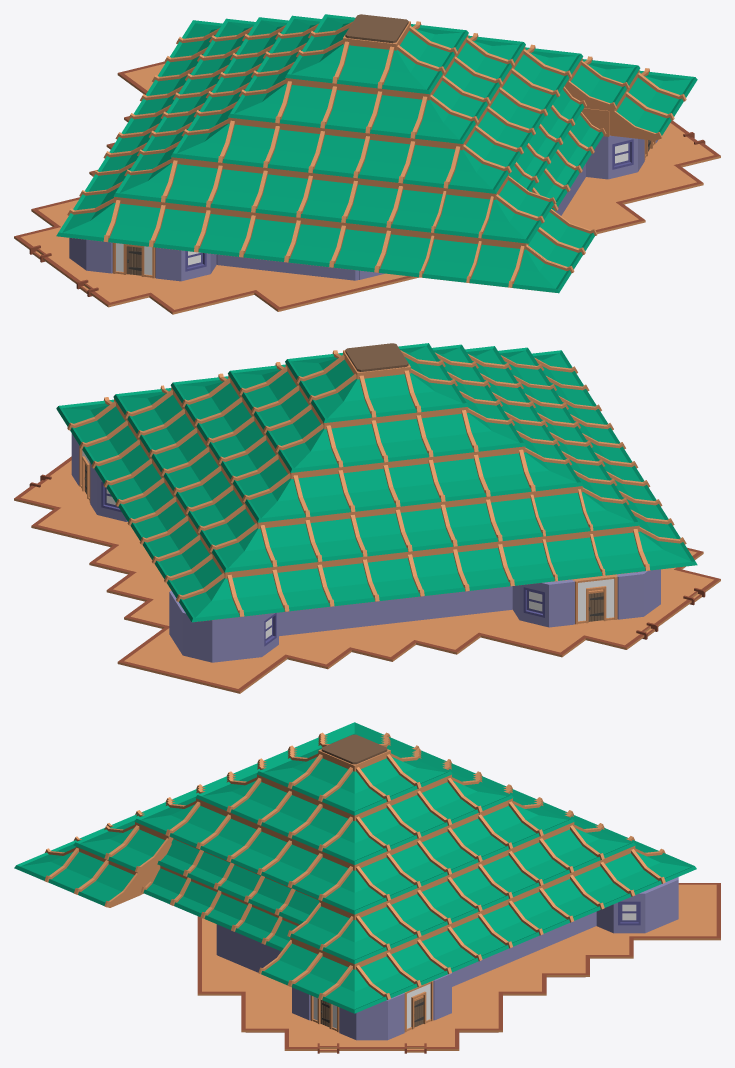
File: Casa1.dae
3 renders of one model, top to bottom at view 1: azimuth 30°, elevation 25°; view 2: azimuth 150°, elevation 25°; view 3: azimuth 270°, elevation 25°, orthographic. The views are drawn at different scales.
Visible parts, largest first — view 1: roof_eastAsianSide (×65), roof_eastAsianSideCorner (×20), porch_floorCenter (×8), roof_eastAsianHalf (×8), wall_cornerEdgeWindow (×2), porch_floorCornerInner (×4), porch_floor (×5), porch_floorSteps (×3), wall (×3), roof_flat, wall_cornerEdge, wall_eastAsianDoorway; view 2: roof_eastAsianSide (×73), roof_eastAsianSideCorner (×17), porch_floorCornerInner (×9), porch_floorCenter (×9), wall (×5), wall_cornerEdgeWindow (×3), wall_cornerEdge (×2), porch_floor (×4), wall_eastAsianDoorway, roof_flat, porch_floorSteps (×2); view 3: roof_eastAsianSide (×40), roof_eastAsianSideCorner (×15), roof_eastAsianHalf (×10), porch_floorCenter (×11), porch_floorCornerInner (×7), wall_cornerEdgeWindow (×2), wall_cornerEdge (×2), wall (×2), wall_eastAsianDoorway (×2), roof_flat, porch_floorSteps (×2), porch_floor.
Part boxes in pixels (x1=…): roof_eastAsianSide (×65): x1=71, y1=22, x2=685, y2=287; roof_eastAsianSideCorner (×20): x1=56, y1=14, x2=697, y2=293; porch_floorCenter (×8): x1=93, y1=135, x2=688, y2=298; roof_eastAsianHalf (×8): x1=516, y1=86, x2=606, y2=209; wall_cornerEdgeWindow (×2): x1=155, y1=135, x2=644, y2=281; porch_floorCornerInner (×4): x1=117, y1=152, x2=700, y2=305; porch_floor (×5): x1=49, y1=179, x2=683, y2=309; porch_floorSteps (×3): x1=25, y1=130, x2=708, y2=298; wall (×3): x1=216, y1=254, x2=358, y2=280; roof_flat: x1=345, y1=14, x2=408, y2=43; wall_cornerEdge: x1=69, y1=238, x2=112, y2=273; wall_eastAsianDoorway: x1=112, y1=243, x2=155, y2=278; roof_eastAsianSide (×73): x1=68, y1=351, x2=682, y2=616; roof_eastAsianSideCorner (×17): x1=56, y1=347, x2=697, y2=622; porch_floorCornerInner (×9): x1=34, y1=495, x2=617, y2=667; porch_floorCenter (×9): x1=46, y1=477, x2=576, y2=677; wall (×5): x1=287, y1=586, x2=512, y2=635; wall_cornerEdgeWindow (×3): x1=90, y1=463, x2=574, y2=659; wall_cornerEdge (×2): x1=176, y1=569, x2=660, y2=662; porch_floor (×4): x1=51, y1=522, x2=552, y2=688; wall_eastAsianDoorway: x1=573, y1=574, x2=618, y2=624; roof_flat: x1=345, y1=343, x2=408, y2=371; porch_floorSteps (×2): x1=618, y1=582, x2=709, y2=641; roof_eastAsianSide (×40): x1=44, y1=751, x2=664, y2=998; roof_eastAsianSideCorner (×15): x1=14, y1=749, x2=696, y2=1013; roof_eastAsianHalf (×10): x1=141, y1=837, x2=319, y2=951; porch_floorCenter (×11): x1=219, y1=910, x2=699, y2=1039; porch_floorCornerInner (×7): x1=219, y1=929, x2=655, y2=1039; wall_cornerEdgeWindow (×2): x1=433, y1=885, x2=662, y2=1020; wall_cornerEdge (×2): x1=339, y1=877, x2=678, y2=1040; wall (×2): x1=217, y1=924, x2=278, y2=972; wall_eastAsianDoorway (×2): x1=310, y1=981, x2=433, y2=1032; roof_flat: x1=321, y1=734, x2=387, y2=764; porch_floorSteps (×2): x1=306, y1=1039, x2=437, y2=1053; porch_floor: x1=655, y1=929, x2=699, y2=940.
Size of the model in its own units: 15.71 by 4.2 by 16.21.
